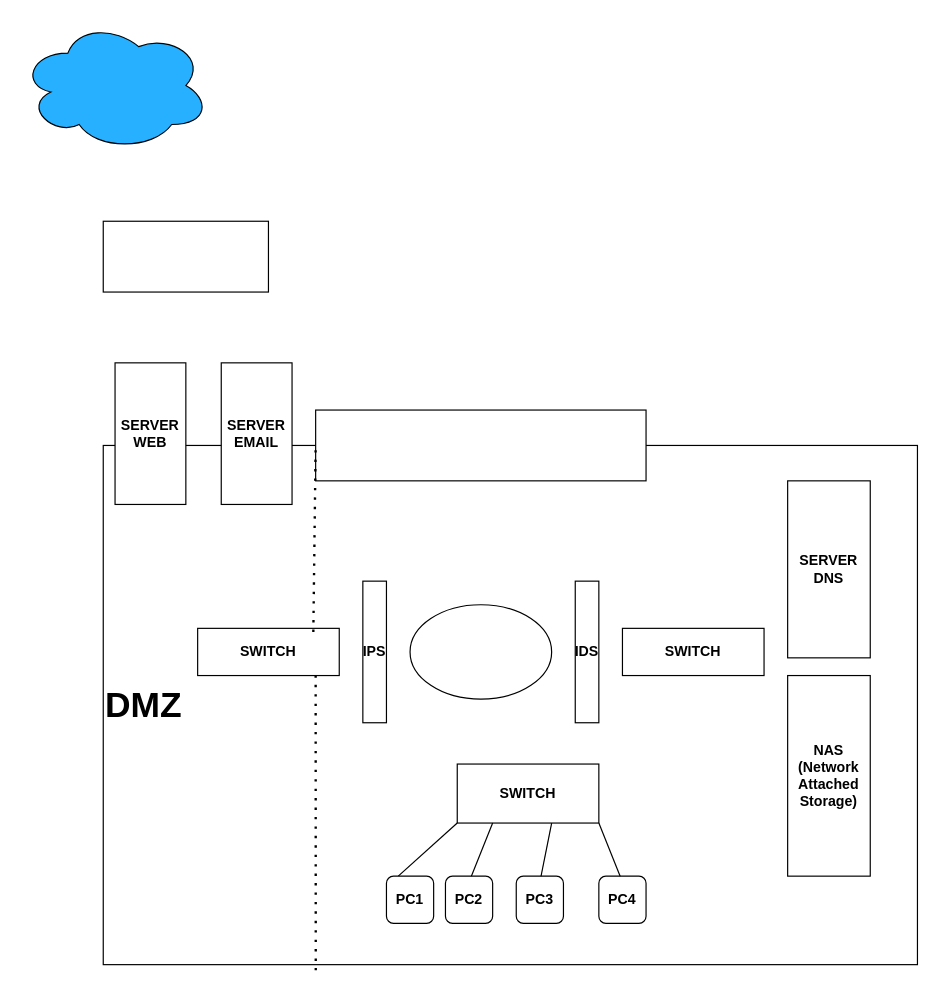
Image size: 938x994. Some labels were removed from this diagram. Here are the shapes that lost their labels. From the top down, the centre of each, then its label:
the point at 114,84: INTERNET
the point at 185,256: WEB APPLICATION FIREWALL
the point at 480,445: FIREWALL
the point at 480,651: ROUTER
